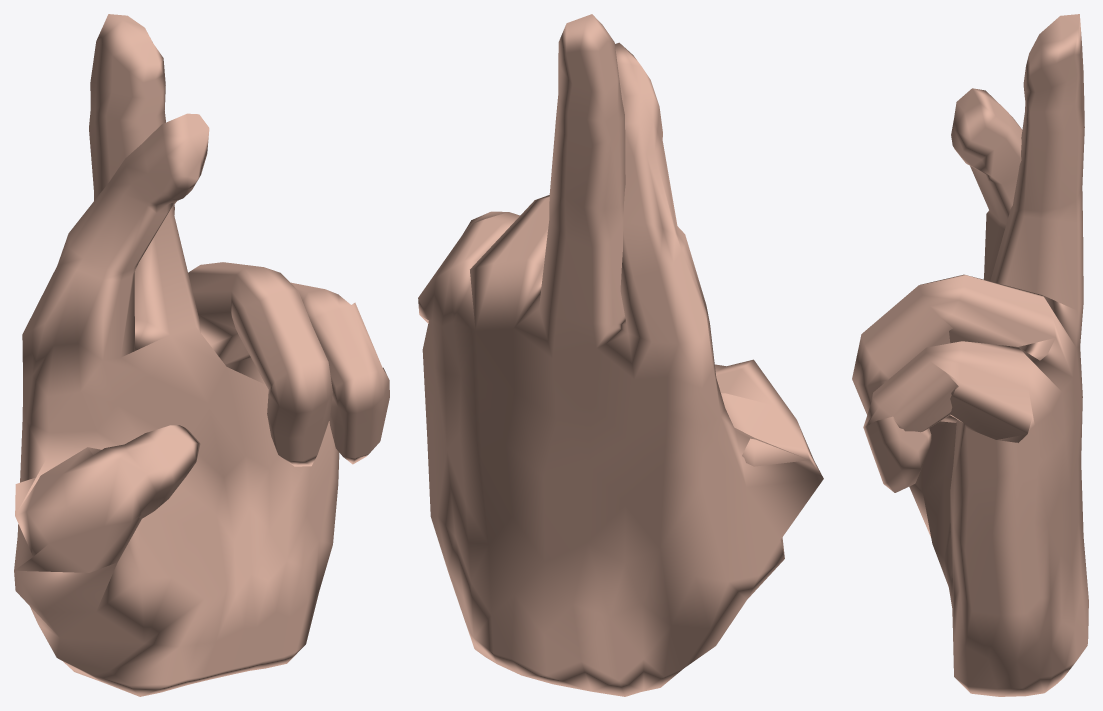
File: MAO_R.obj
3 views of the same model, side by side, from view 1: azimuth 30°, elevation 25°; view 2: azimuth 150°, elevation 25°; view 3: azimuth 270°, elevation 25° (orthographic). The views are drawn at different scales.
Parts seen in each view (by area): view 1: mao_dir polySurface1; view 2: mao_dir polySurface1; view 3: mao_dir polySurface1.
Boxes of the visible parts, left/top/right/bottom form: mao_dir polySurface1: left=14, top=14, right=389, bottom=696; mao_dir polySurface1: left=418, top=14, right=823, bottom=696; mao_dir polySurface1: left=852, top=14, right=1088, bottom=696.
Size of the model in its own units: 135 by 243 by 83.68.
